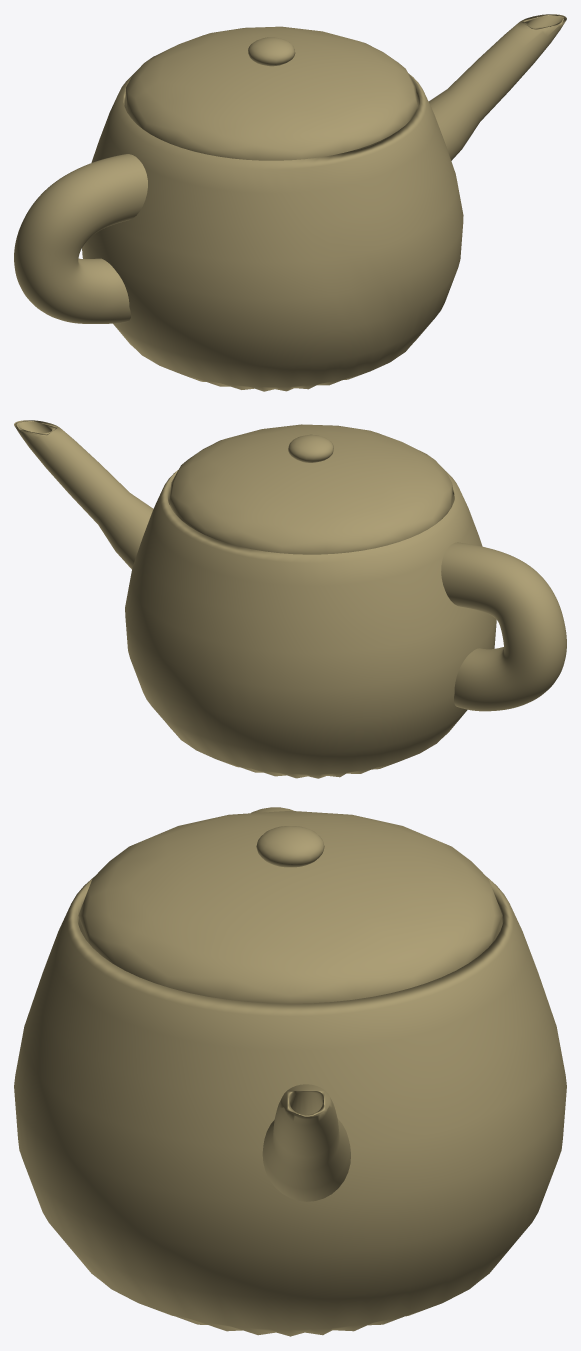
The model's file is TEAPOT.glb.
3 renders of one model, top to bottom at view 1: azimuth 30°, elevation 25°; view 2: azimuth 150°, elevation 25°; view 3: azimuth 270°, elevation 25°, orthographic. The views are drawn at different scales.
Visible parts, largest first — view 1: Cylinder.001, Icosphere.001; view 2: Cylinder.001, Icosphere.001; view 3: Cylinder.001, Icosphere.001.
Part boxes in pixels (bbox=[...]): Cylinder.001: bbox=[14, 14, 566, 391]; Icosphere.001: bbox=[125, 26, 417, 160]; Cylinder.001: bbox=[14, 420, 566, 778]; Icosphere.001: bbox=[169, 424, 452, 554]; Cylinder.001: bbox=[14, 807, 566, 1336]; Icosphere.001: bbox=[78, 810, 502, 1003].
Size of the model in its own units: 4.56 by 2.49 by 2.73.
